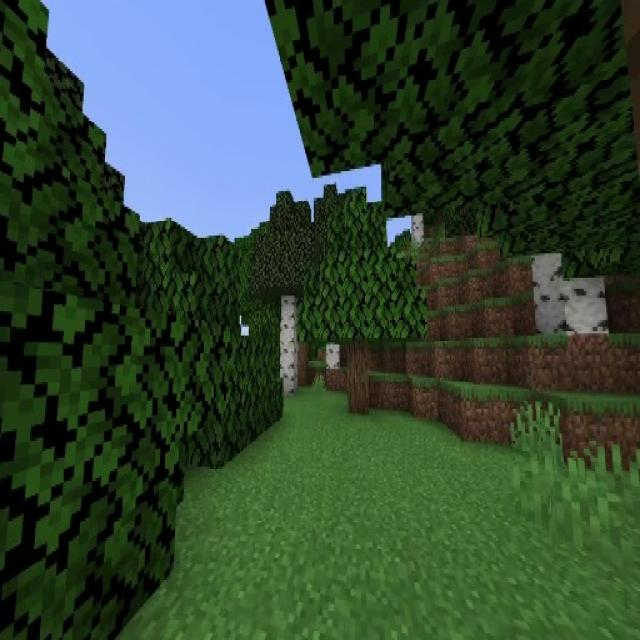birch: (250, 193, 320, 398)
birch_log: (532, 256, 608, 340), (280, 298, 298, 398), (348, 339, 370, 417)
oak: (301, 203, 422, 414)
